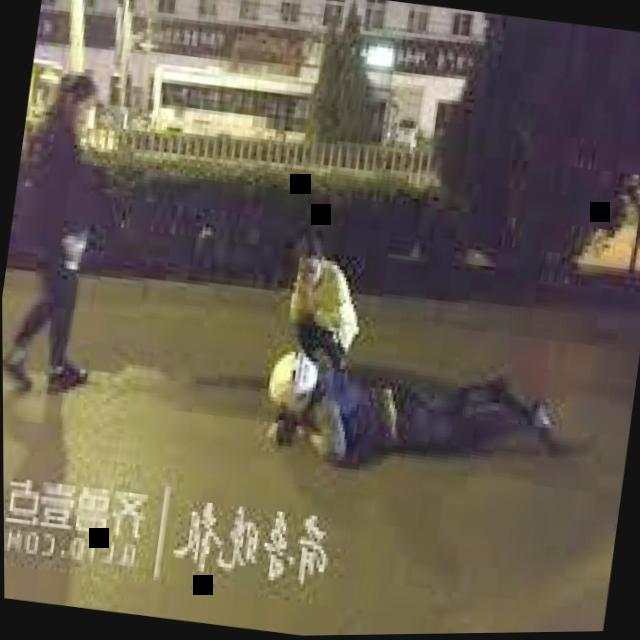Fall-Detected: (255, 303, 595, 507)
